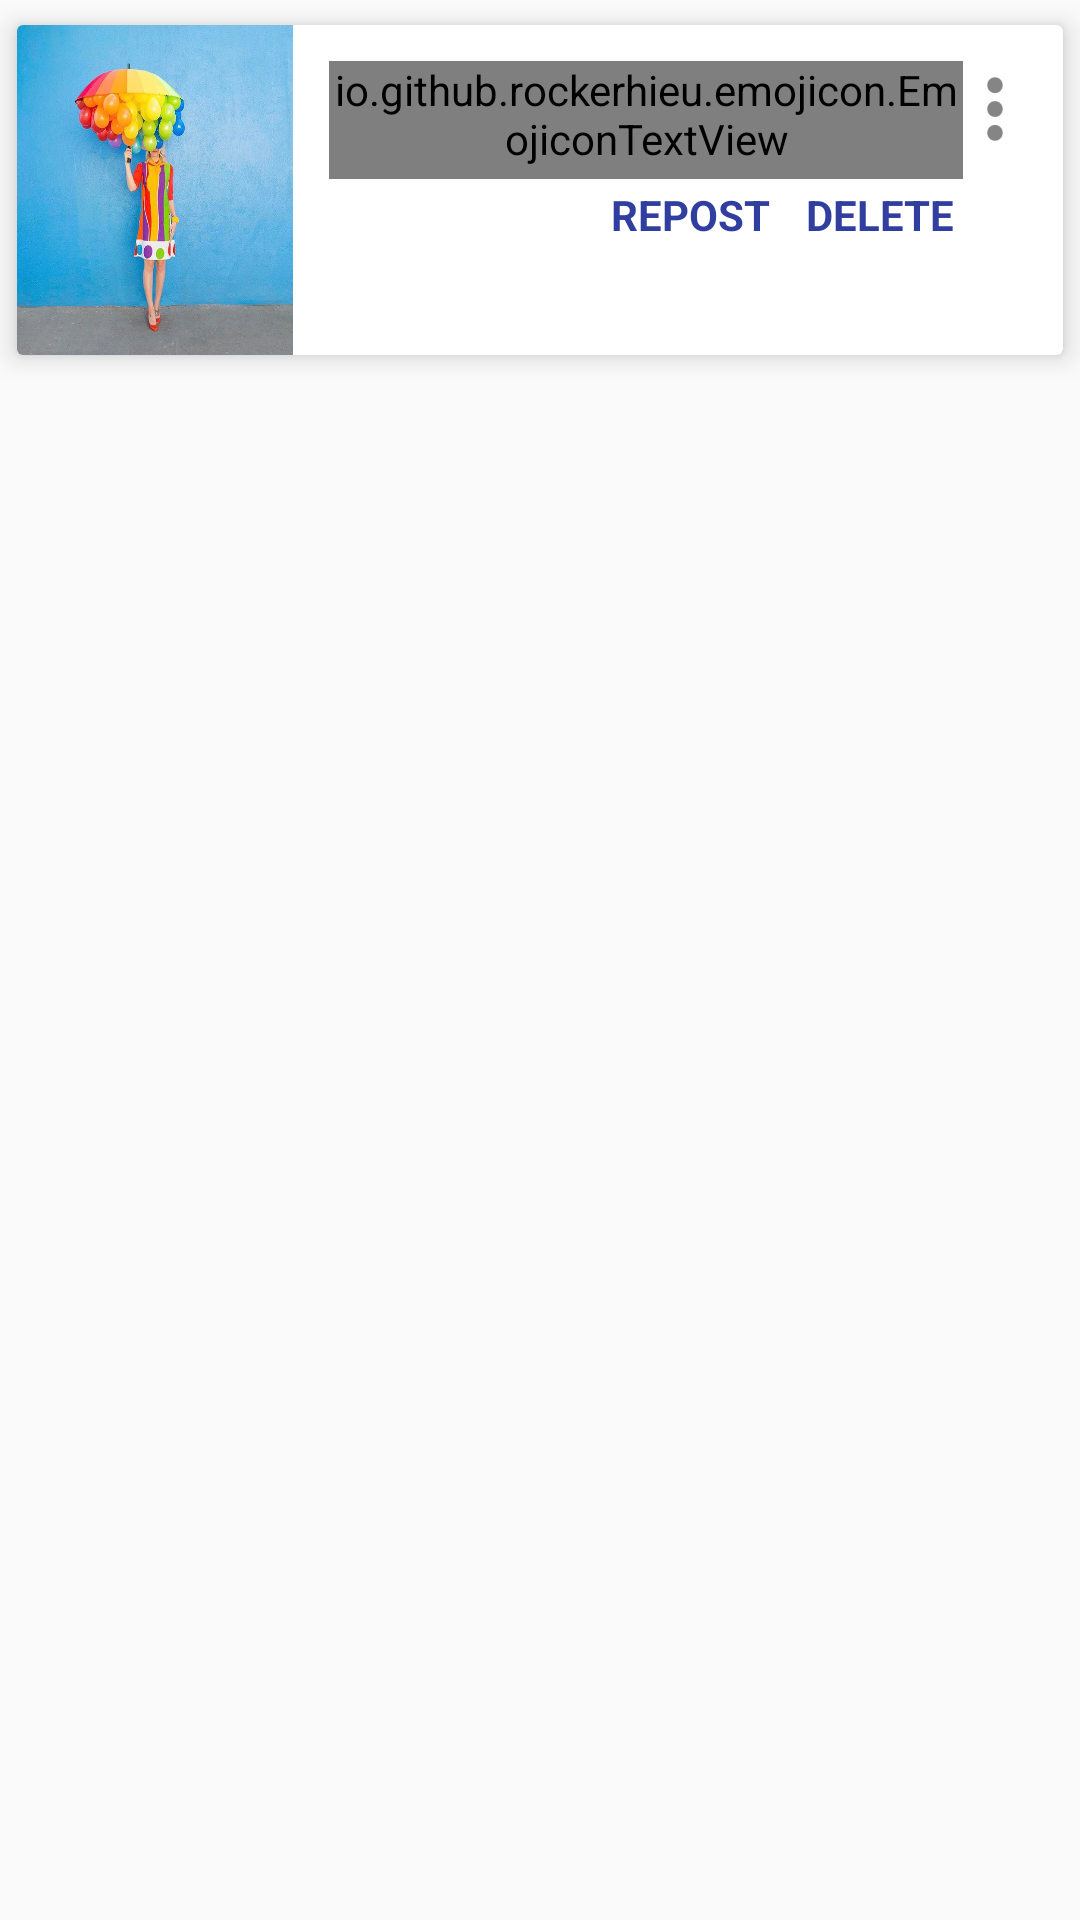

Icon click points for this 1080x1920 phone screenshot, format [x,y]:
imageinsta: [155,190]
settings: [995,109]
